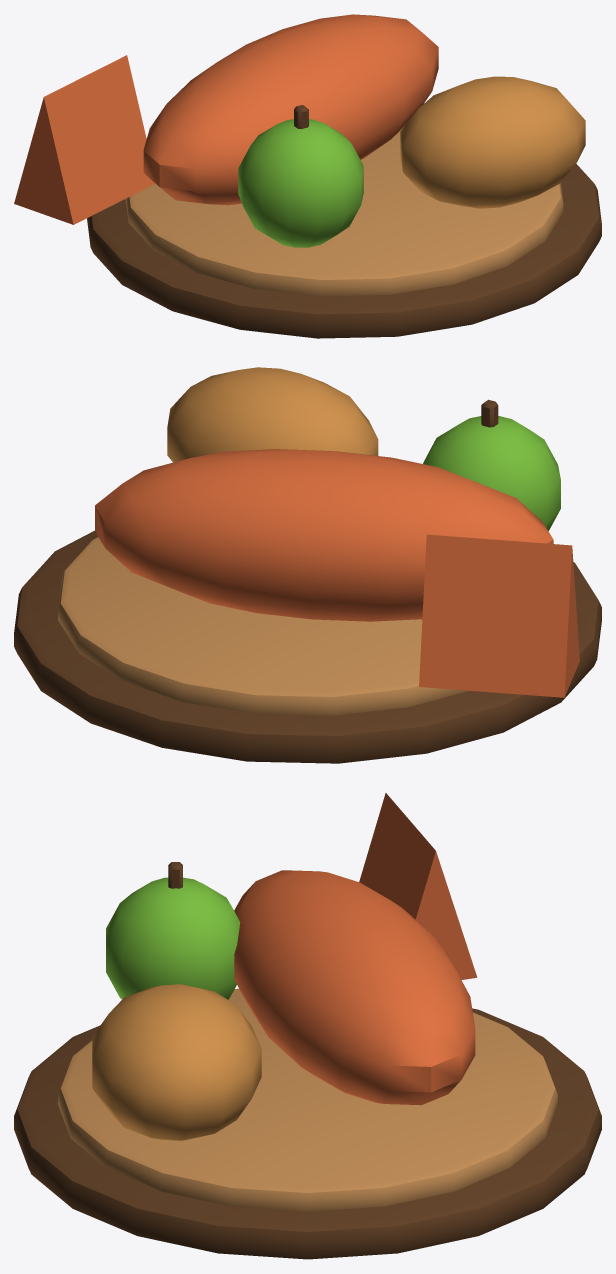
The model's file is FoodPlatter.glb.
3 views of the same model, one above another, from view 1: azimuth 30°, elevation 25°; view 2: azimuth 150°, elevation 25°; view 3: azimuth 270°, elevation 25° (orthographic). The views are drawn at different scales.
Visible parts, largest first — view 1: FoodPlatter; view 2: FoodPlatter; view 3: FoodPlatter.
Part boxes in pixels (x1,y1,x2,y2): FoodPlatter: [14, 14, 601, 338]; FoodPlatter: [14, 367, 601, 763]; FoodPlatter: [14, 793, 601, 1259].
Size of the model in its own units: 0.4472 by 0.165 by 0.4.
